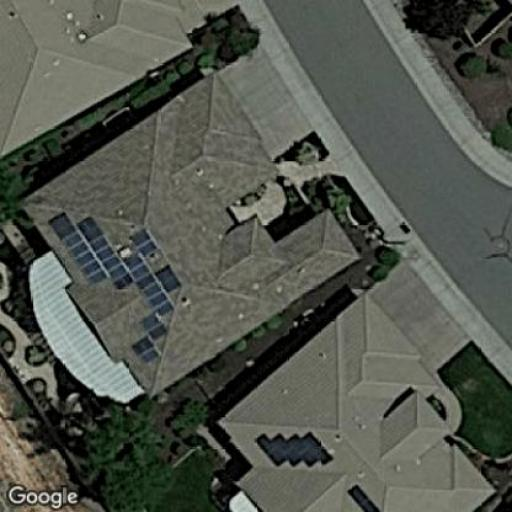solar-panel: (116, 222, 183, 369), (46, 209, 136, 292), (252, 429, 341, 474), (344, 481, 387, 511)
